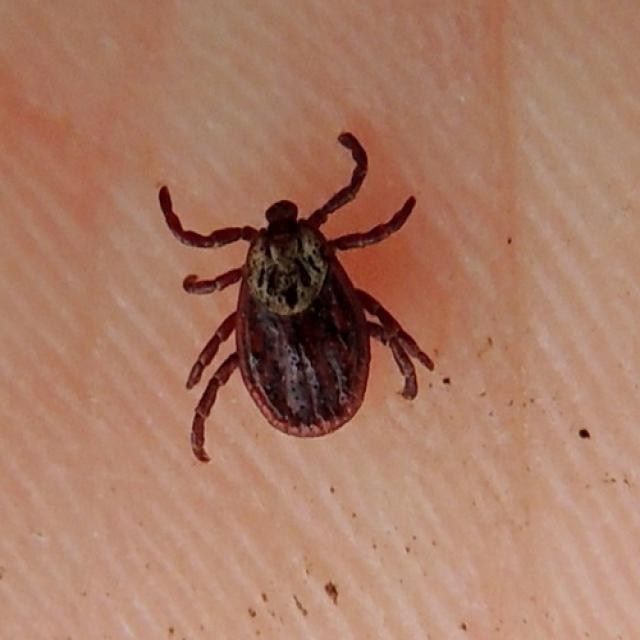Dermacentor Reticulatus-F: (159, 131, 436, 457)
